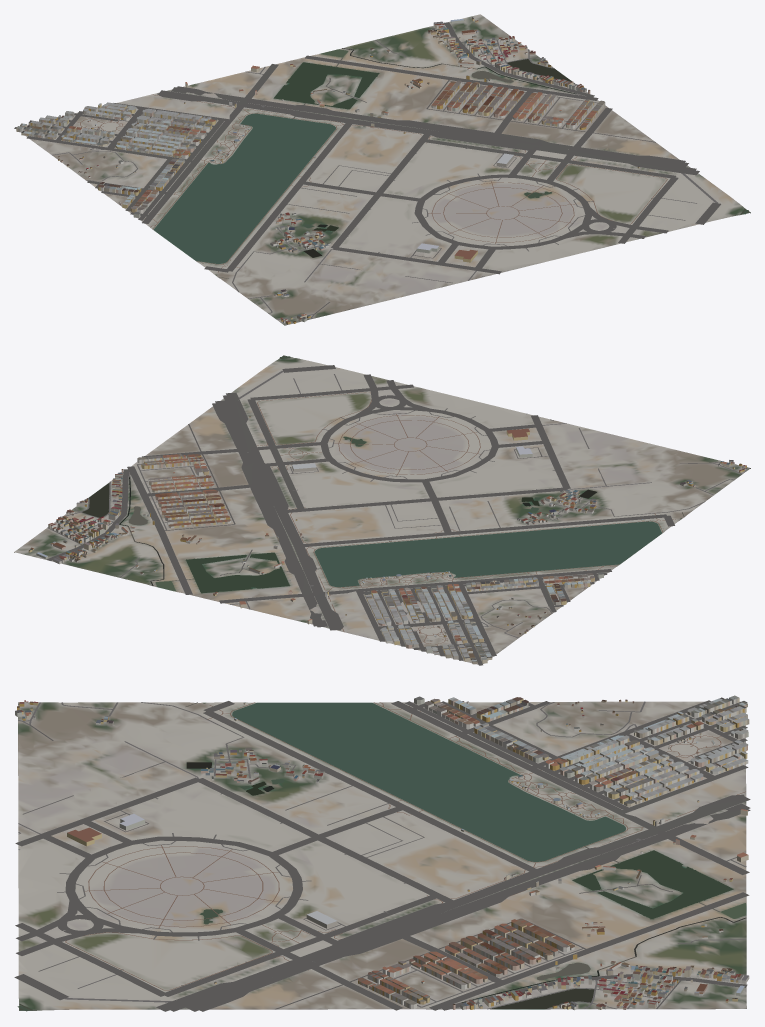
3 views of the same model, one above another, from view 1: azimuth 30°, elevation 25°; view 2: azimuth 150°, elevation 25°; view 3: azimuth 270°, elevation 25° (orthographic). The views are drawn at different scales.
Parts seen in each view (by area): view 1: ground, roads, water, buildings; view 2: ground, roads, water, buildings; view 3: ground, roads, water, buildings.
Boxes of the visible parts, x1,y1,x2,y2 form: ground: (20,14,750,325); roads: (14,22,720,324); water: (154,48,749,278); buildings: (16,17,639,324); ground: (14,356,750,664); roads: (47,365,747,665); water: (82,355,684,593); buildings: (28,416,746,664); ground: (18,701,746,1010); roads: (14,700,750,1011); water: (17,702,746,1011); buildings: (15,695,749,1010).
Bounding box in the file's own units: 1418 × 22.99 × 1419.
